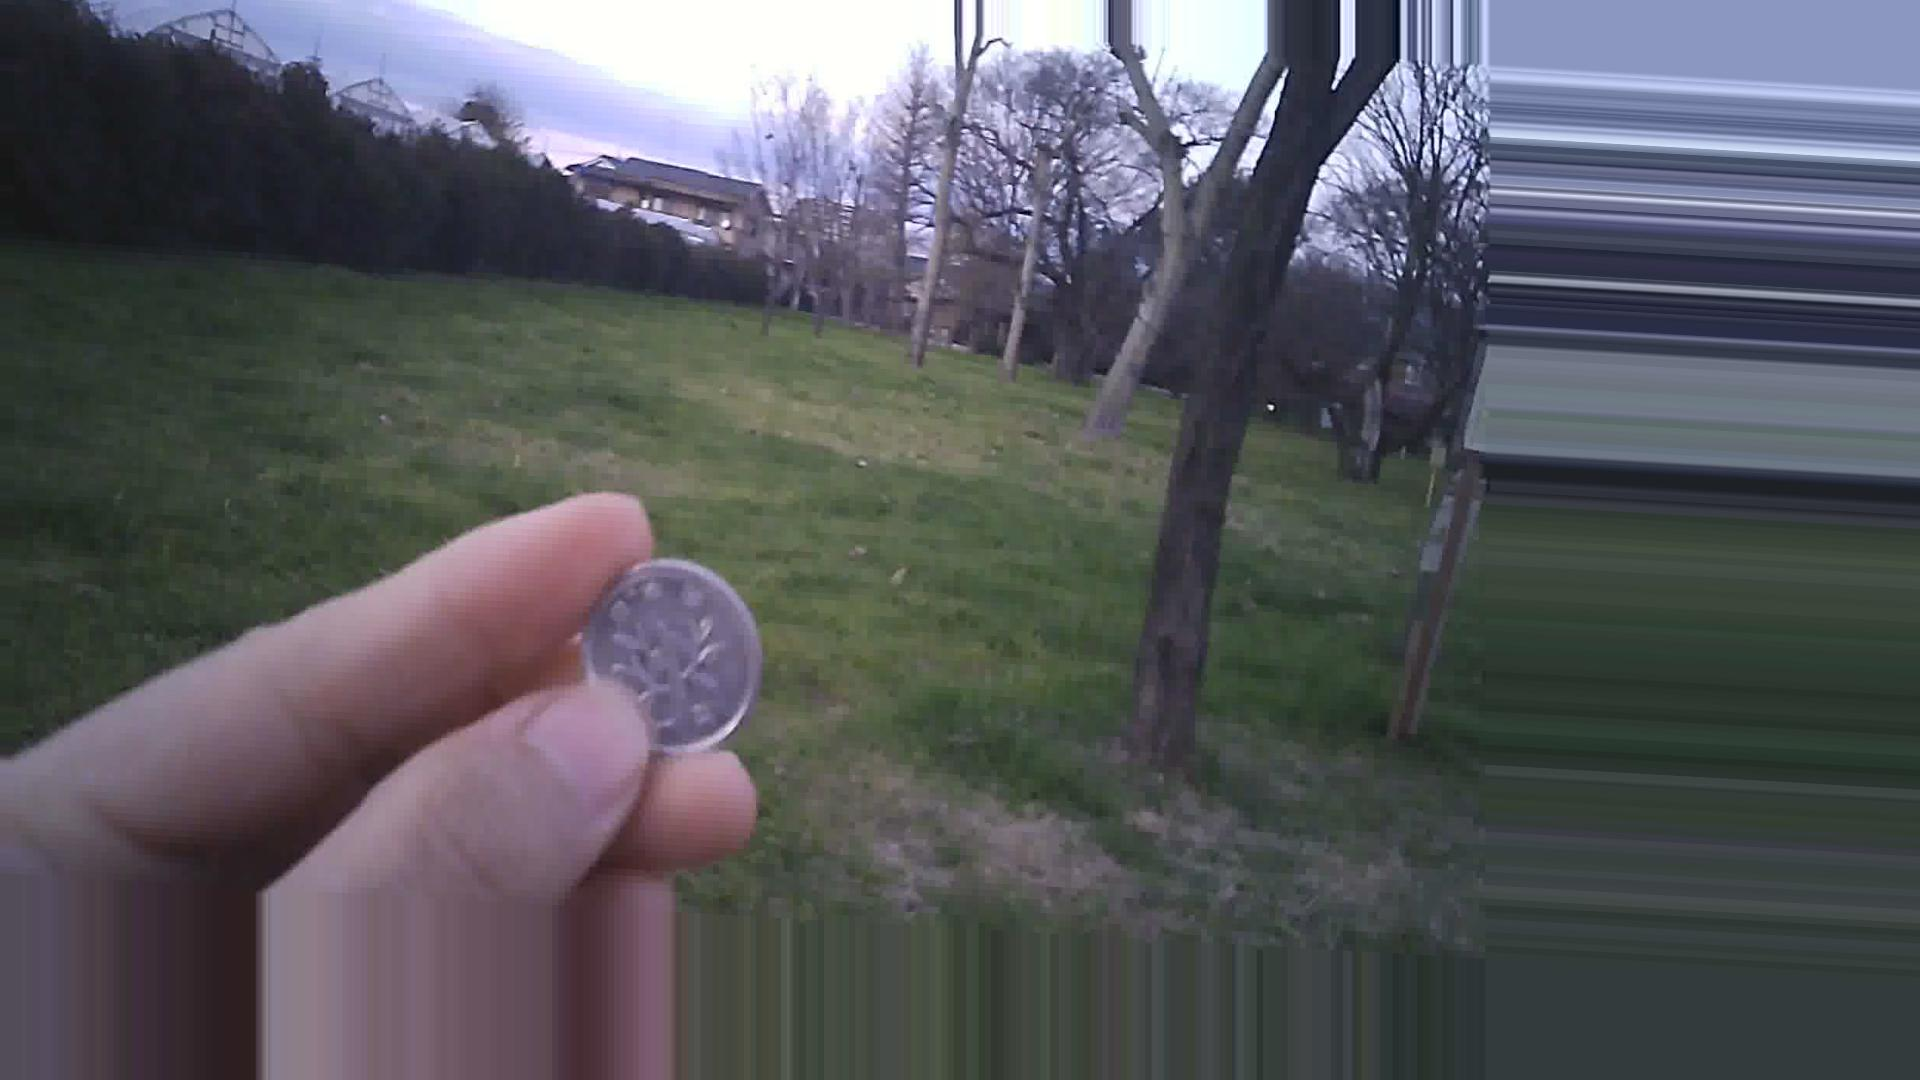1 Yen: (571, 546, 781, 764)
